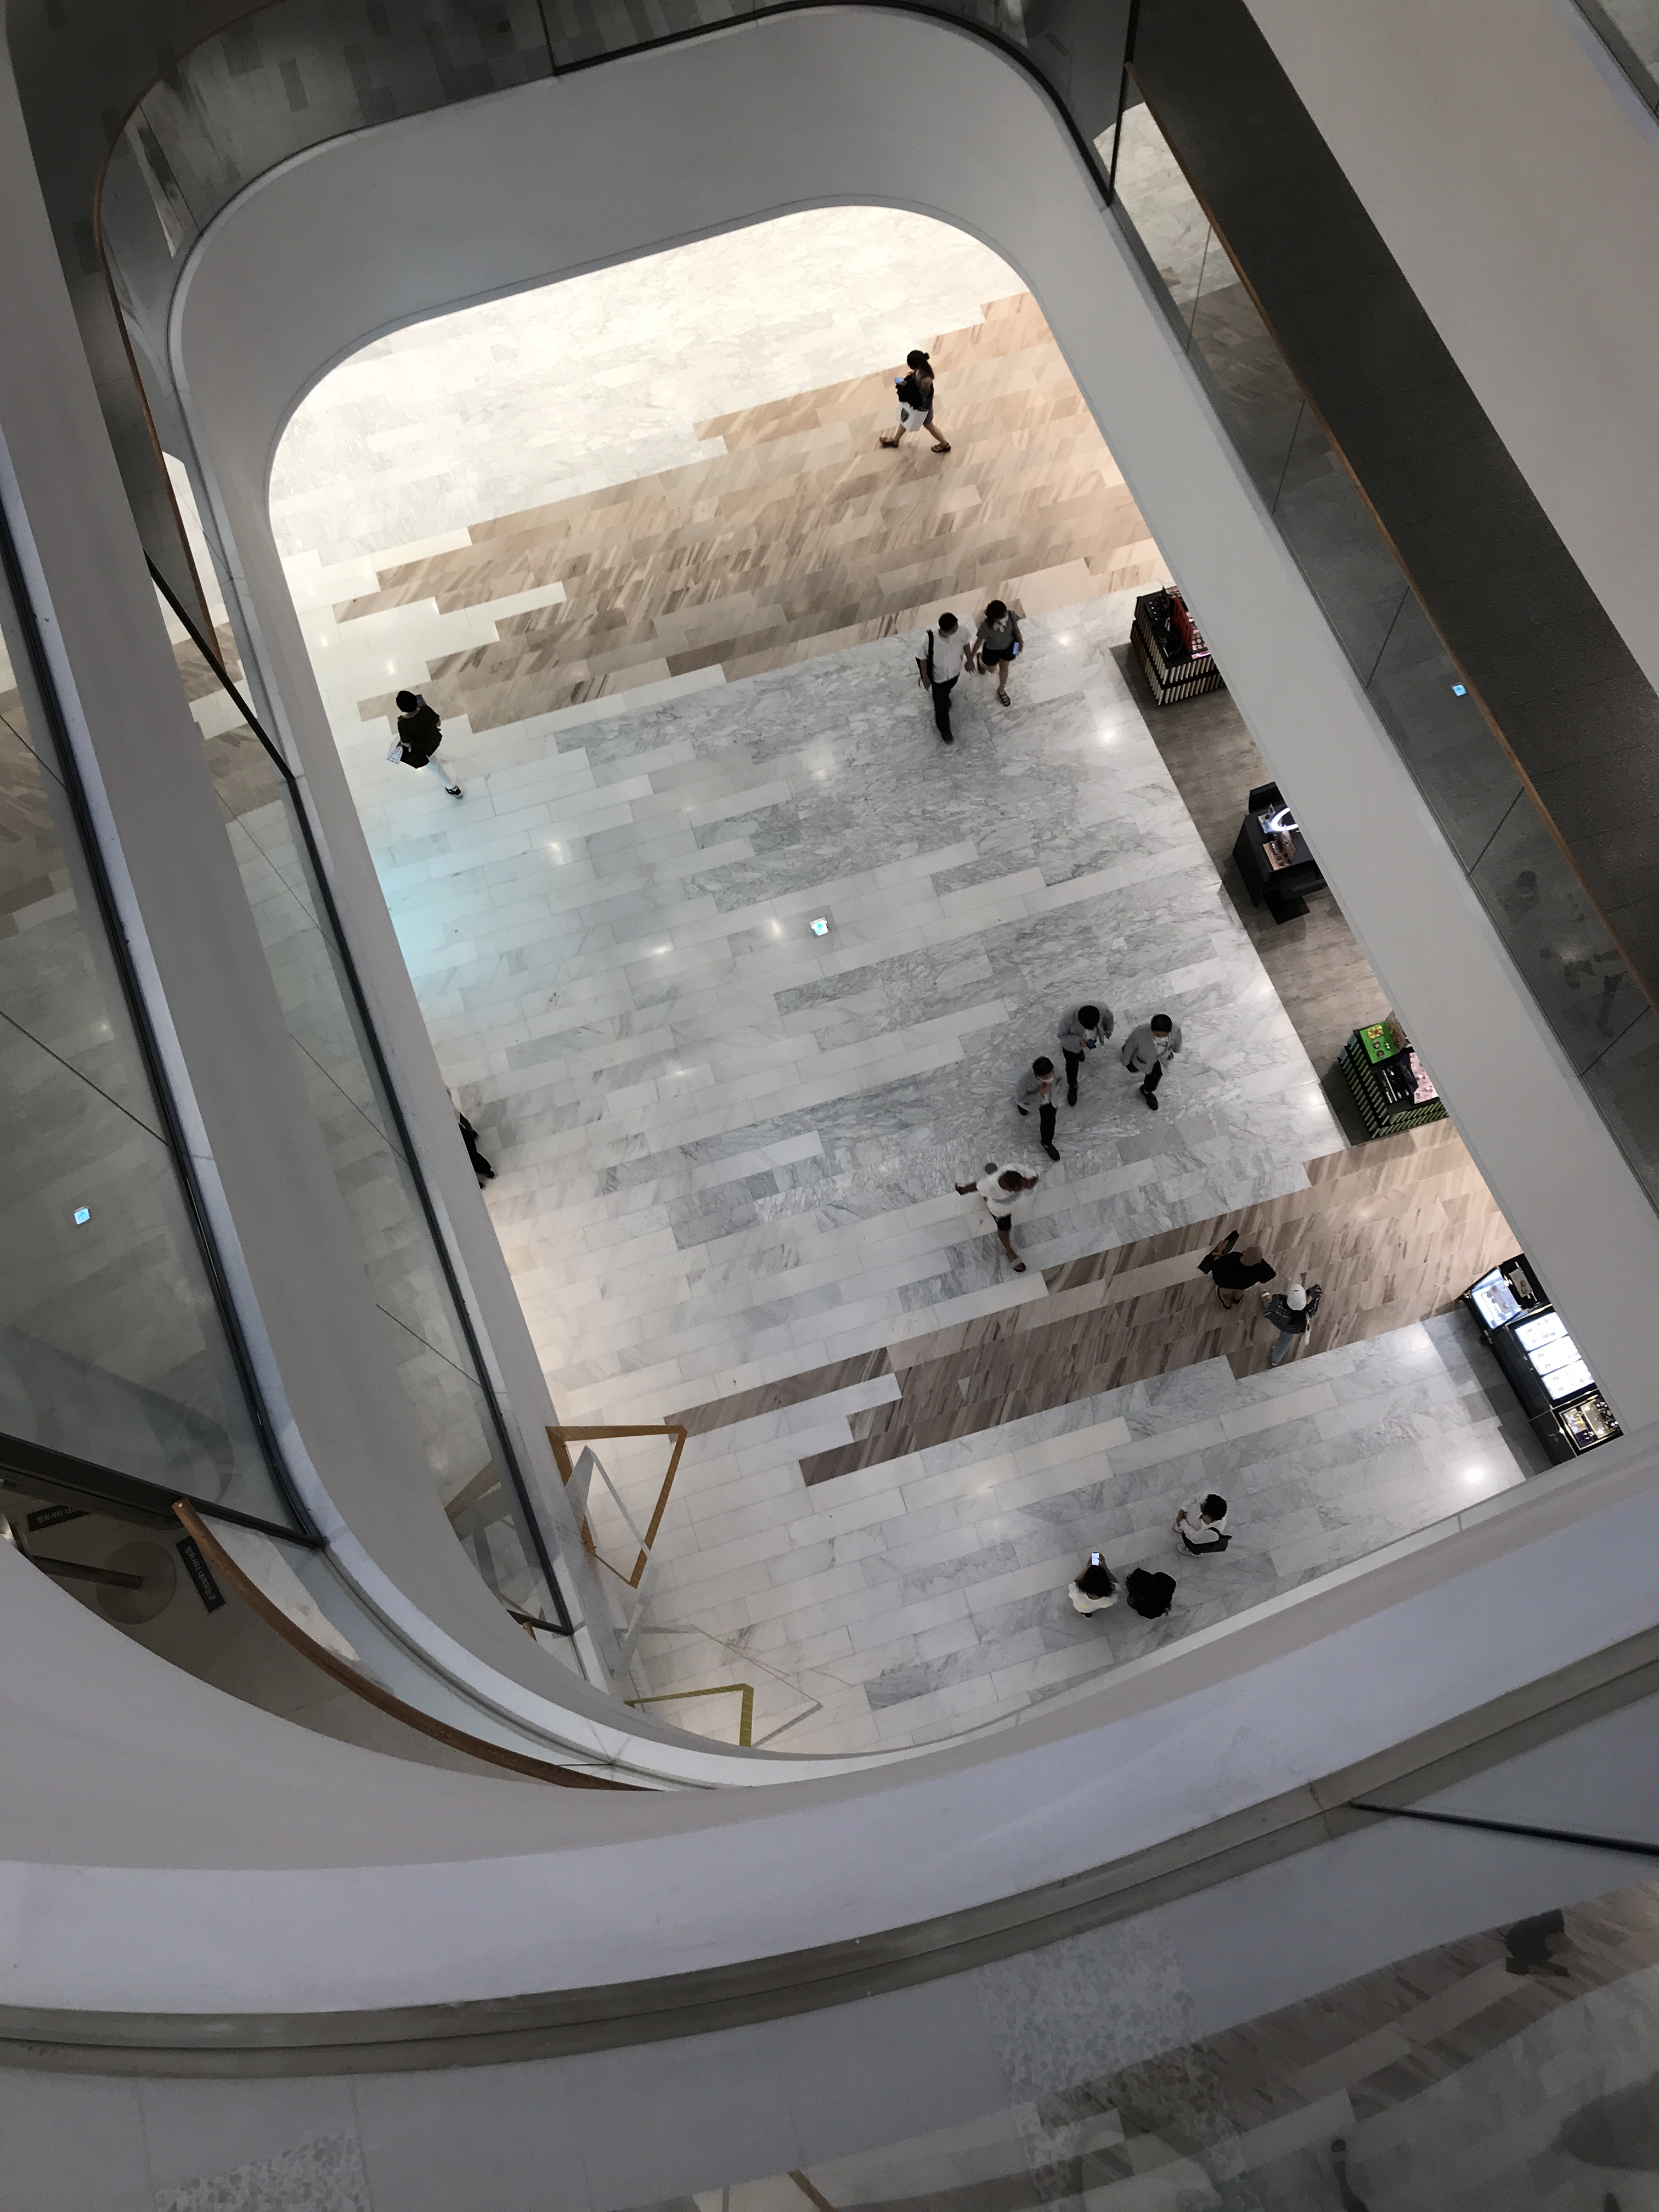person: (954, 1159, 1038, 1275), (388, 689, 464, 798), (882, 351, 956, 456), (919, 611, 970, 747), (1057, 997, 1115, 1110), (1123, 1012, 1186, 1110), (967, 599, 1024, 710), (1200, 1232, 1272, 1310), (1263, 1282, 1324, 1370), (1012, 1058, 1064, 1164), (1173, 1491, 1230, 1559), (1067, 1561, 1118, 1621), (1126, 1570, 1178, 1618)
